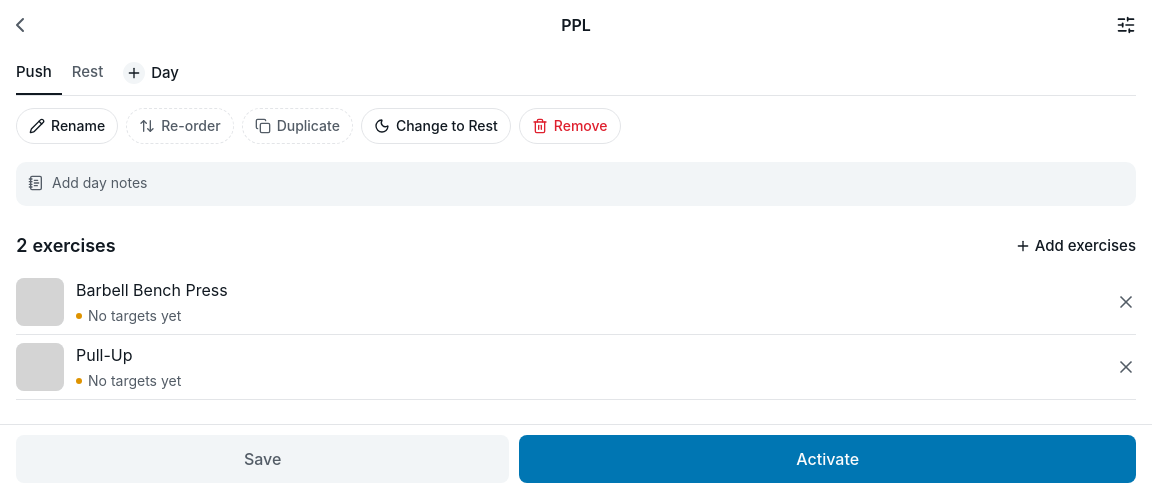
ProgramEditorPage - day actions and exercises › on a rest day only Rename, Duplicate and Remove show
Expected: the element showing "Push Rest" is shown, [16, 51, 113, 95]
Click the tab "Rest": (88, 73) [62, 51, 113, 95]
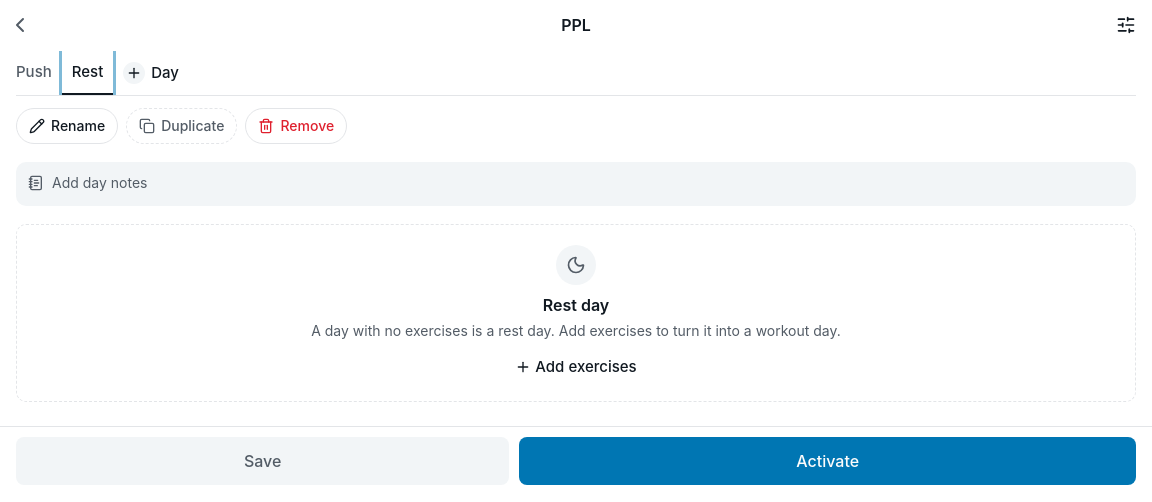
Expected: the button "Rename" is shown, [16, 104, 118, 148]
Now the button "Change to Rest" is gone
Now the button "Re-order" is gone
